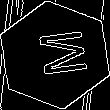M_W: (25, 28, 85, 82)
